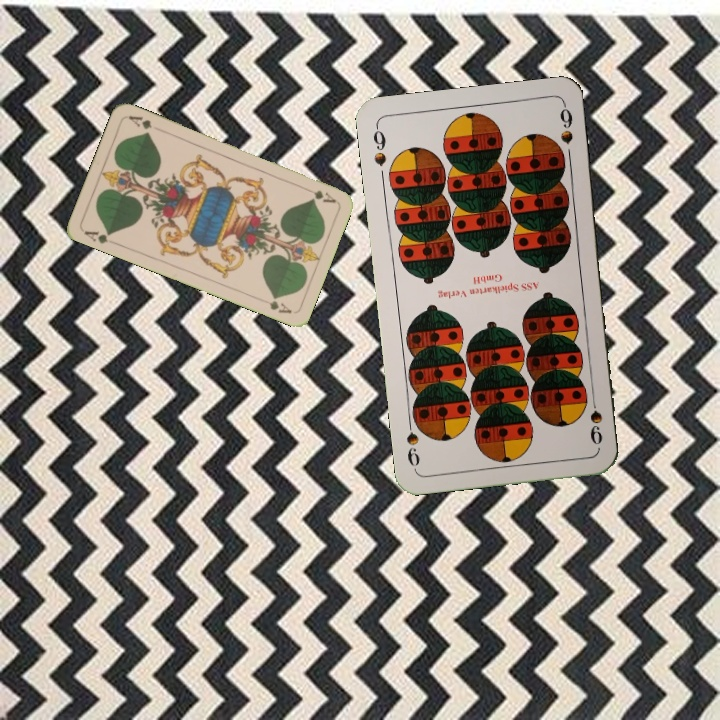GA: (300, 183, 339, 206), (80, 227, 114, 246)
S9: (586, 389, 605, 448), (369, 122, 389, 169)
